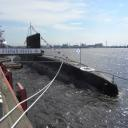submarine: (14, 34, 120, 98)
